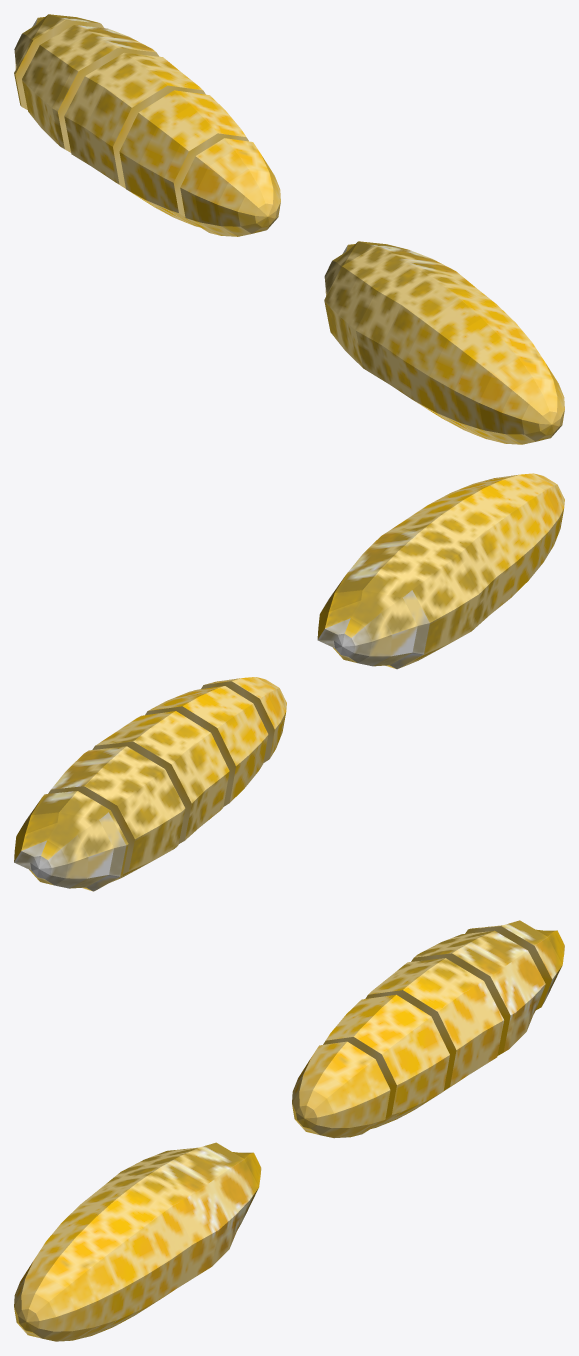
File: mazorcas cocina .fbx
3 renders of one model, top to bottom at view 1: azimuth 30°, elevation 25°; view 2: azimuth 150°, elevation 25°; view 3: azimuth 330°, elevation 25°, orthographic. The views are drawn at different scales.
Visible parts, largest first — view 1: Sphere, Mazorca_Trozo_2, Mazorca_Trozo_3, Mazorca_Trozo_1, Mazorca_Trozo_4, Mazorca_Trozo_5; view 2: Sphere, Mazorca_Trozo_4, Mazorca_Trozo_5, Mazorca_Trozo_3, Mazorca_Trozo_2, Mazorca_Trozo_1; view 3: Sphere, Mazorca_Trozo_2, Mazorca_Trozo_3, Mazorca_Trozo_1, Mazorca_Trozo_4, Mazorca_Trozo_5.
Part boxes in pixels (<box>): Sphere: <box>324,241,564,444</box>; Mazorca_Trozo_2: <box>119,90,248,227</box>; Mazorca_Trozo_3: <box>64,53,205,188</box>; Mazorca_Trozo_1: <box>180,138,280,236</box>; Mazorca_Trozo_4: <box>22,25,159,152</box>; Mazorca_Trozo_5: <box>14,14,103,109</box>; Sphere: <box>317,473,564,669</box>; Mazorca_Trozo_4: <box>48,746,185,882</box>; Mazorca_Trozo_5: <box>14,791,128,891</box>; Mazorca_Trozo_3: <box>92,711,229,843</box>; Mazorca_Trozo_2: <box>145,686,268,806</box>; Mazorca_Trozo_1: <box>201,677,286,762</box>; Sphere: <box>14,1142,261,1341</box>; Mazorca_Trozo_2: <box>323,994,449,1128</box>; Mazorca_Trozo_3: <box>365,958,503,1090</box>; Mazorca_Trozo_1: <box>292,1041,390,1138</box>; Mazorca_Trozo_4: <box>411,930,545,1055</box>; Mazorca_Trozo_5: <box>465,920,564,1010</box>.
Bounding box in the file's own units: 26.14 × 23.93 × 197.
Materials: 2 (2 with a texture image).
